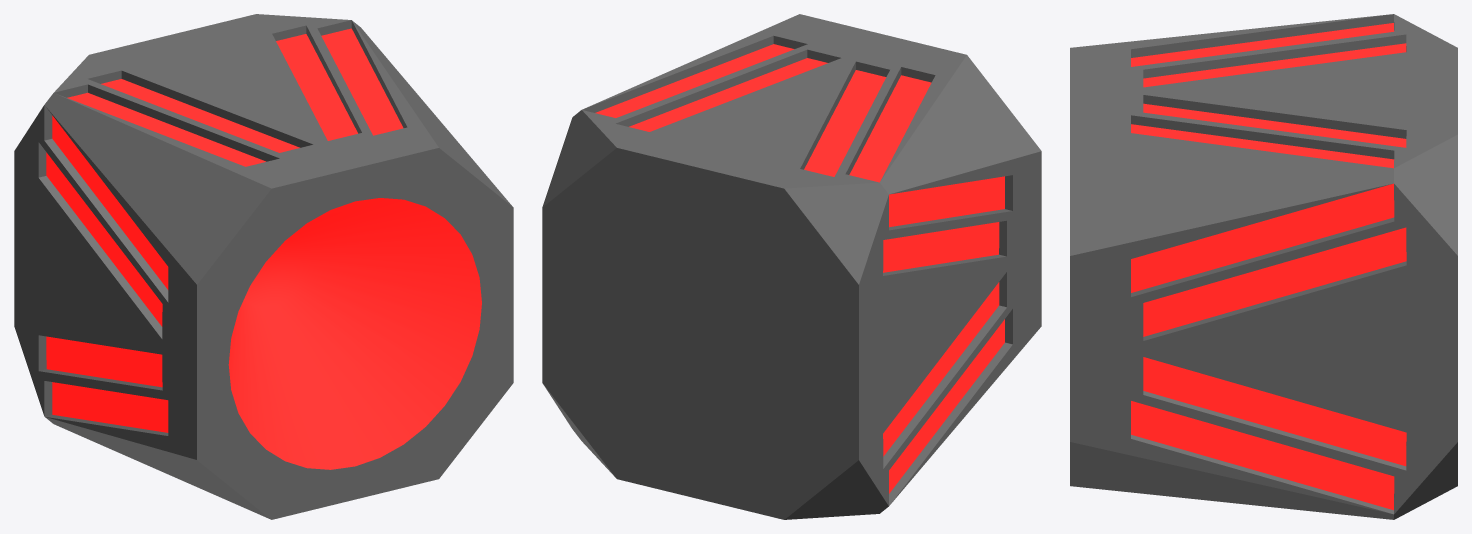
The model's file is ThrusterSmall.glb.
3 renders of one model, left to right at view 1: azimuth 30°, elevation 25°; view 2: azimuth 150°, elevation 25°; view 3: azimuth 270°, elevation 25°, orthographic. The views are drawn at different scales.
Visible parts, largest first — view 1: Cube; view 2: Cube; view 3: Cube.
Part boxes in pixels (x1,y1,x2,y2): Cube: [14, 14, 513, 519]; Cube: [542, 14, 1041, 519]; Cube: [1070, 14, 1457, 519].
Bounding box in the file's own units: 2.5 × 2.5 × 2.5.
